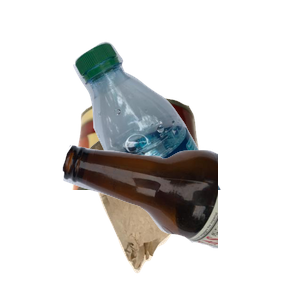glass: (60, 142, 300, 300)
metal: (69, 93, 265, 273)
plastic: (71, 39, 300, 219)
trash: (79, 123, 281, 300)
